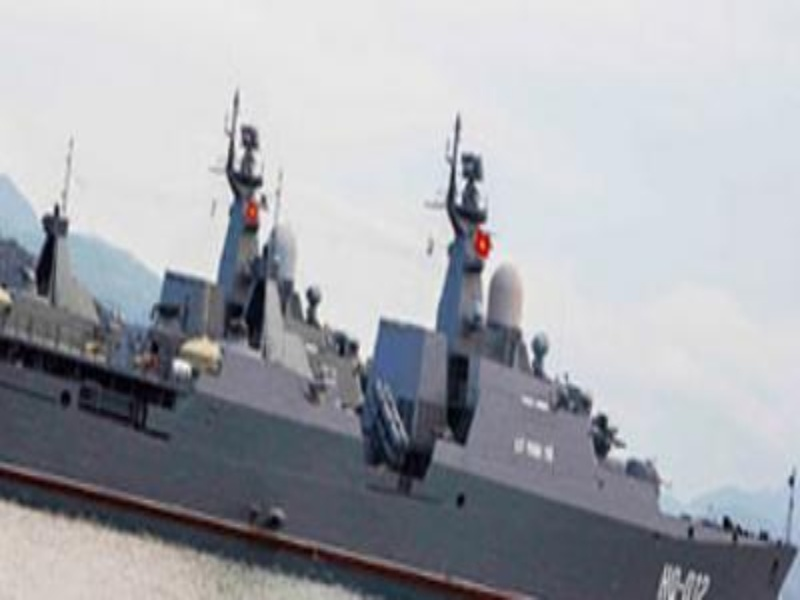cruise: (19, 157, 791, 596)
